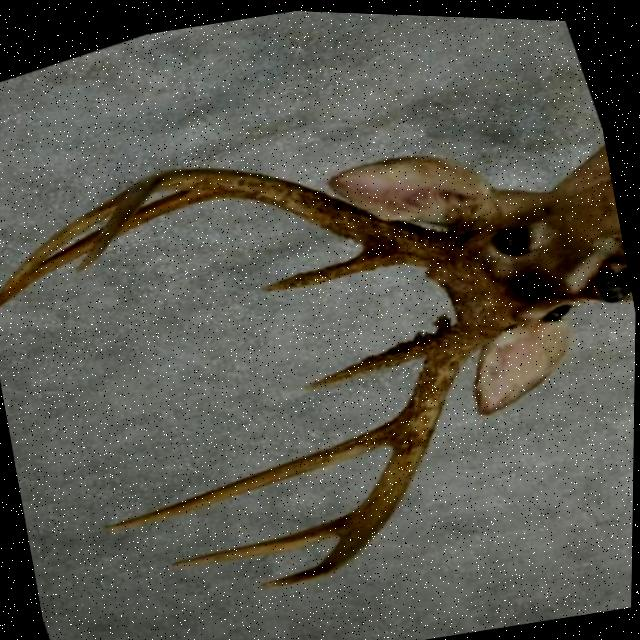L-F: (263, 309, 492, 586)
L-G1: (303, 325, 438, 388)
L-G2: (103, 414, 399, 528)
L-G3: (172, 508, 355, 565)
R-F: (76, 165, 467, 275)
R-G1: (260, 244, 398, 289)
